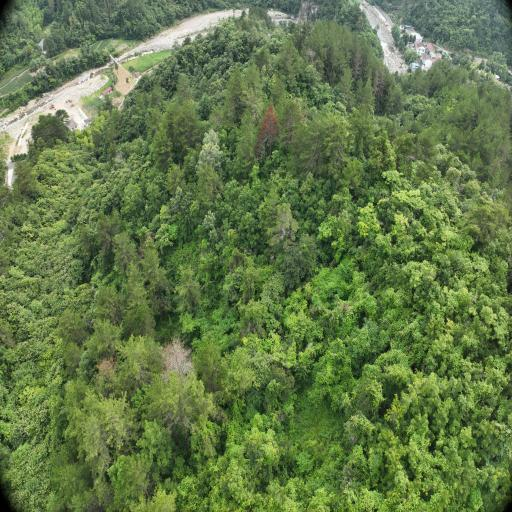dead-tree: (355, 50, 361, 81), (306, 47, 316, 64), (381, 70, 385, 106)
sick-tree: (165, 338, 191, 373), (260, 106, 278, 150), (99, 360, 119, 375), (288, 114, 294, 138)
